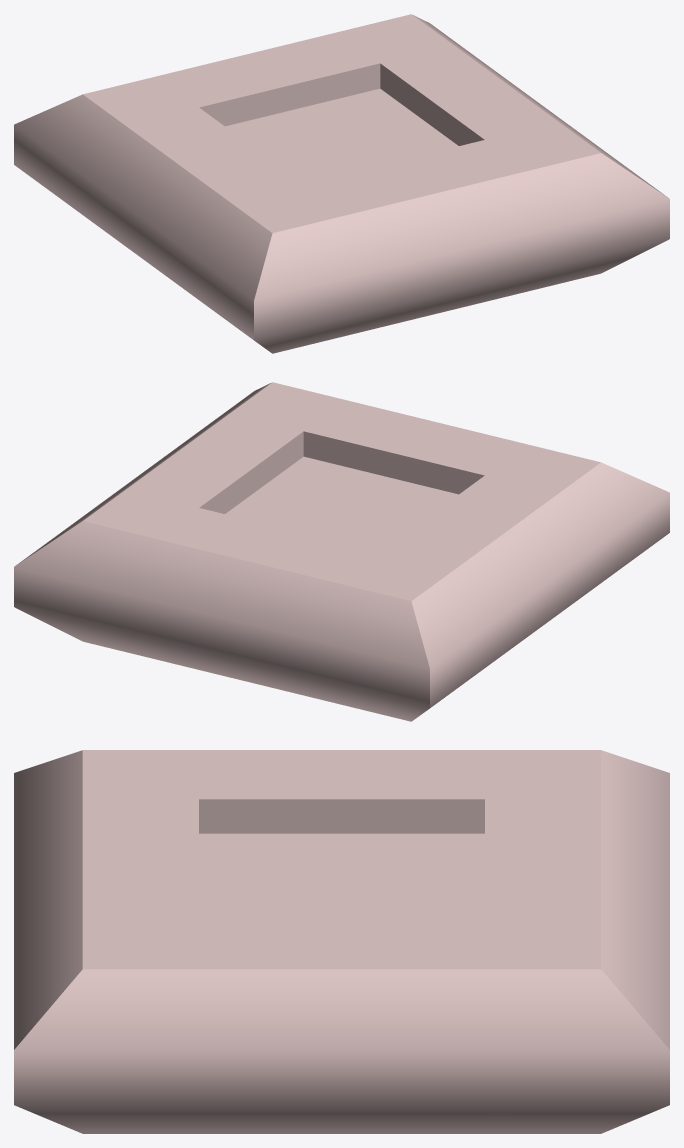
File: Ing_Soap.fbx
3 views of the same model, one above another, from view 1: azimuth 30°, elevation 25°; view 2: azimuth 150°, elevation 25°; view 3: azimuth 270°, elevation 25° (orthographic). The views are drawn at different scales.
Parts seen in each view (by area): view 1: Ing_Soap_low; view 2: Ing_Soap_low; view 3: Ing_Soap_low.
Part boxes in pixels (<box>): Ing_Soap_low: <box>14,14,669,353</box>; Ing_Soap_low: <box>14,382,669,721</box>; Ing_Soap_low: <box>14,750,669,1133</box>.
Size of the model in its own units: 19.62 by 5.43 by 19.62.
